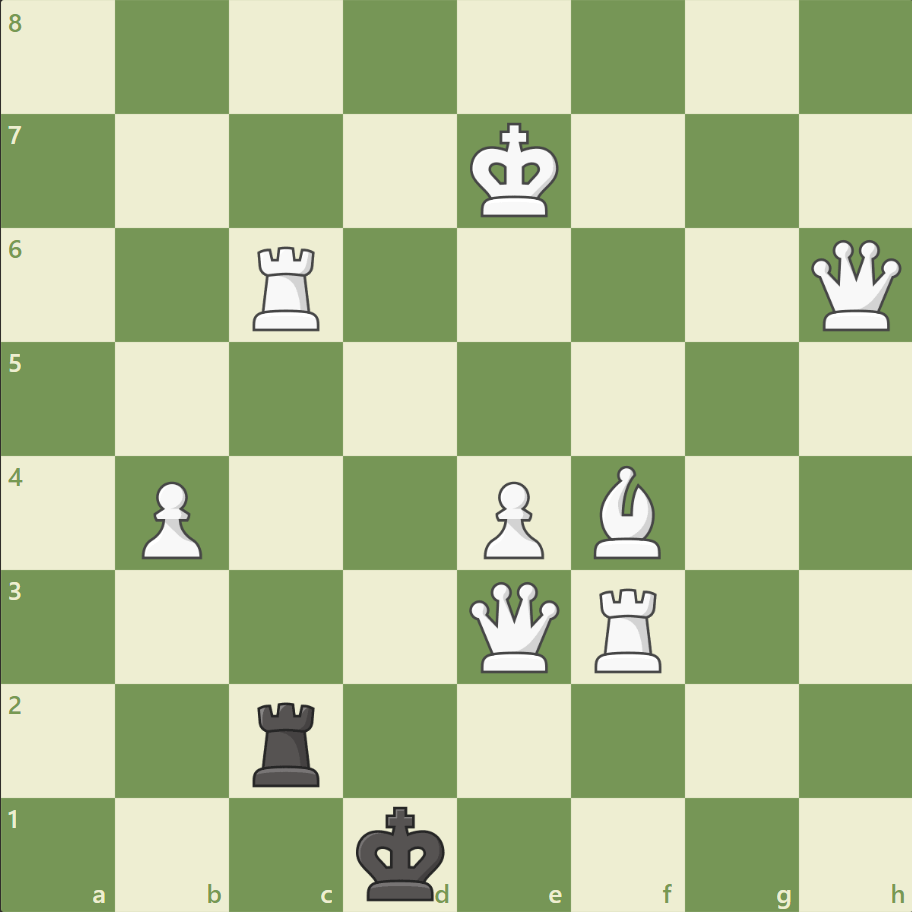B: (585, 460, 669, 563)
K: (465, 117, 565, 225)
P: (133, 473, 208, 564), (474, 473, 549, 564)
Q: (464, 576, 563, 676), (805, 236, 904, 335)
R: (246, 239, 329, 336), (587, 579, 670, 676)
k: (351, 798, 451, 906)
r: (246, 693, 329, 790)
